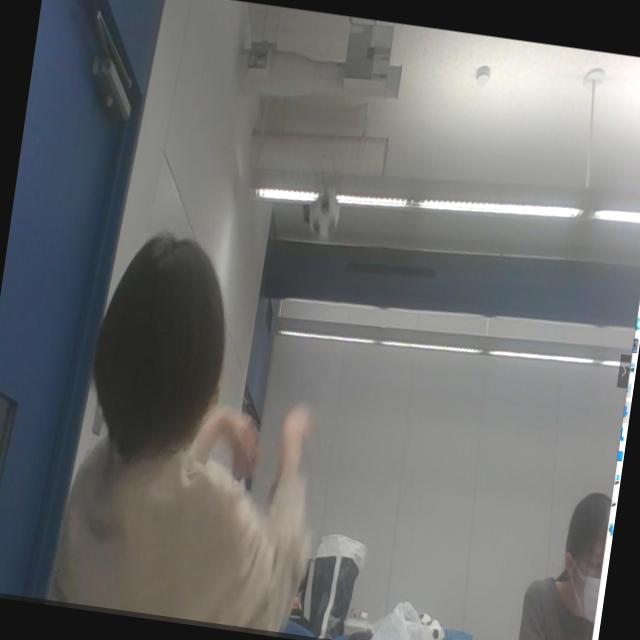Soccer Ball: (306, 189, 341, 242)
